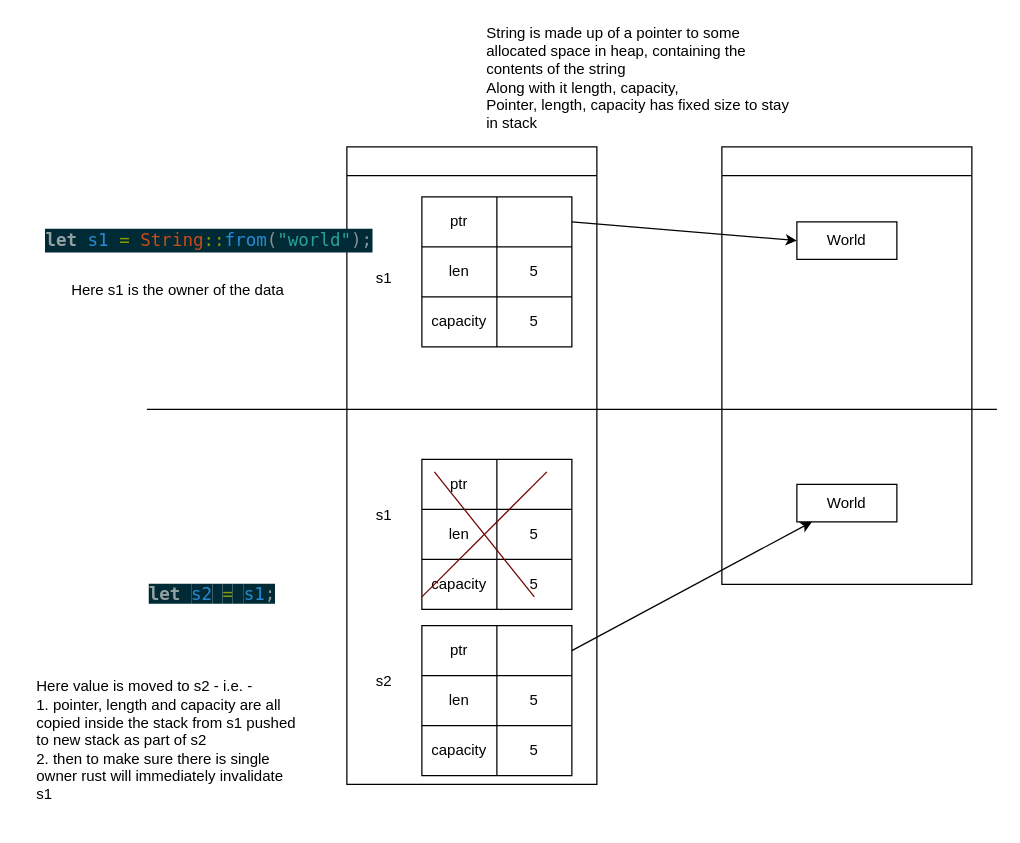
This 1020x843 diagram has some shape labels left out. Each missing label, with the box of its shape:
Heap: (721, 146, 972, 584)
Stack: (346, 146, 597, 784)
